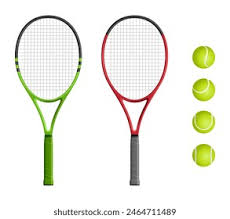tennis racket: (13, 14, 84, 187), (100, 15, 167, 189)
